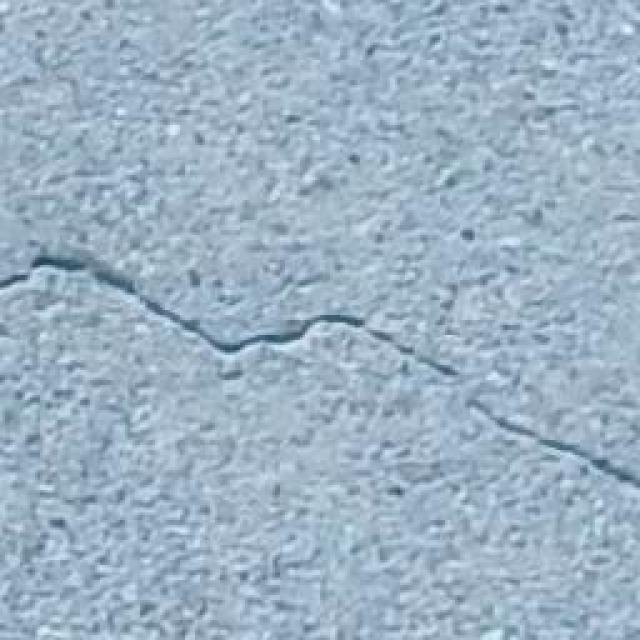concrete-crack: (0, 245, 460, 378), (465, 402, 640, 490)
